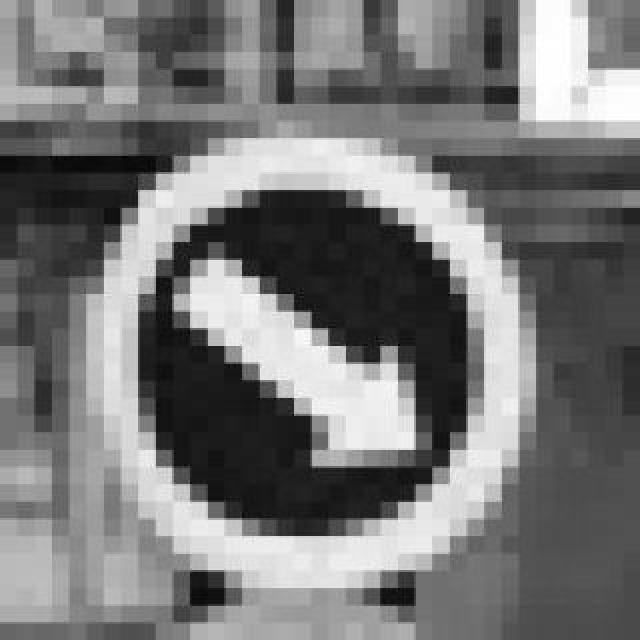keep right: (70, 122, 502, 554)
